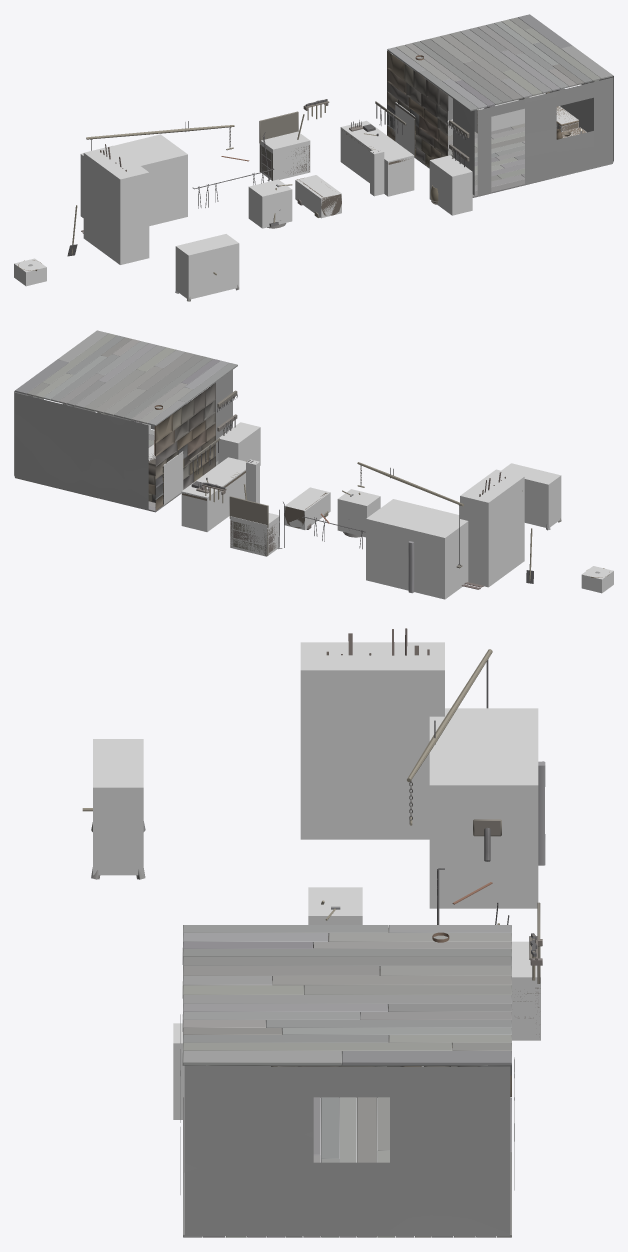
Rendered from smithy_interior.glb.
3 views of the same model, one above another, from view 1: azimuth 30°, elevation 25°; view 2: azimuth 150°, elevation 25°; view 3: azimuth 270°, elevation 25° (orthographic). The views are drawn at different scales.
Visible parts, largest first — view 1: Room boards / tav_board, Room limewash, Bar rack solid, Room stone, Bellows solid, Grindstone solid, Bench solid, Room boards / tav_floor, Tyres solid, Coal bin solid, Anvil solid, Forge wood / tav_board (+9 smaller); view 2: Room limewash, Room boards / tav_board, Bellows solid, Bar rack solid, Room stone, Bench solid, Grindstone solid, Forge wood / tav_board, Coal bin solid, Anvil solid, Tyres solid, Slack tub solid (+8 smaller); view 3: Room limewash, Room boards / tav_board, Bar rack solid, Bellows solid, Grindstone solid, Room boards / tav_floor, Coal bin solid, Anvil solid, Bellows / tav_oak, Tyres solid, Bellows lever / tav_oak_smooth.
Boxes of the visible parts, left/top/right/bottom form: Room boards / tav_board: left=387, top=14, right=612, bottom=111; Room limewash: left=393, top=55, right=613, bottom=195; Bar rack solid: left=83, top=145, right=149, bottom=264; Room stone: left=387, top=51, right=448, bottom=166; Bellows solid: left=80, top=134, right=187, bottom=225; Grindstone solid: left=175, top=234, right=239, bottom=299; Bench solid: left=340, top=120, right=414, bottom=196; Room boards / tav_floor: left=414, top=120, right=612, bottom=197; Tyres solid: left=429, top=155, right=472, bottom=215; Coal bin solid: left=259, top=131, right=310, bottom=180; Anvil solid: left=248, top=179, right=292, bottom=228; Forge wood / tav_board: left=259, top=111, right=469, bottom=204; Room limewash: left=14, top=370, right=232, bottom=509; Room boards / tav_board: left=15, top=330, right=237, bottom=426; Bellows solid: left=366, top=499, right=468, bottom=599; Bar rack solid: left=460, top=469, right=524, bottom=587; Room stone: left=155, top=382, right=215, bottom=510; Bench solid: left=181, top=457, right=246, bottom=531; Grindstone solid: left=501, top=463, right=561, bottom=528; Forge wood / tav_board: left=217, top=390, right=276, bottom=552; Coal bin solid: left=230, top=513, right=279, bottom=556; Anvil solid: left=337, top=489, right=380, bottom=537; Tyres solid: left=218, top=422, right=260, bottom=465; Slack tub solid: left=284, top=487, right=330, bottom=529; Room limewash: left=180, top=1014, right=514, bottom=1235; Room boards / tav_board: left=183, top=925, right=511, bottom=1065; Bar rack solid: left=300, top=642, right=444, bottom=839; Bellows solid: left=429, top=708, right=538, bottom=908; Grindstone solid: left=93, top=739, right=143, bottom=875; Room boards / tav_floor: left=183, top=1097, right=511, bottom=1237; Coal bin solid: left=512, top=941, right=540, bottom=1040; Anvil solid: left=308, top=887, right=362, bottom=924; Bellows / tav_oak: left=473, top=765, right=545, bottom=865; Tyres solid: left=173, top=1023, right=184, bottom=1119; Bellows lever / tav_oak_smooth: left=407, top=649, right=492, bottom=825.
Bounding box in the file's own units: 14.96 × 2.68 × 5.45.
